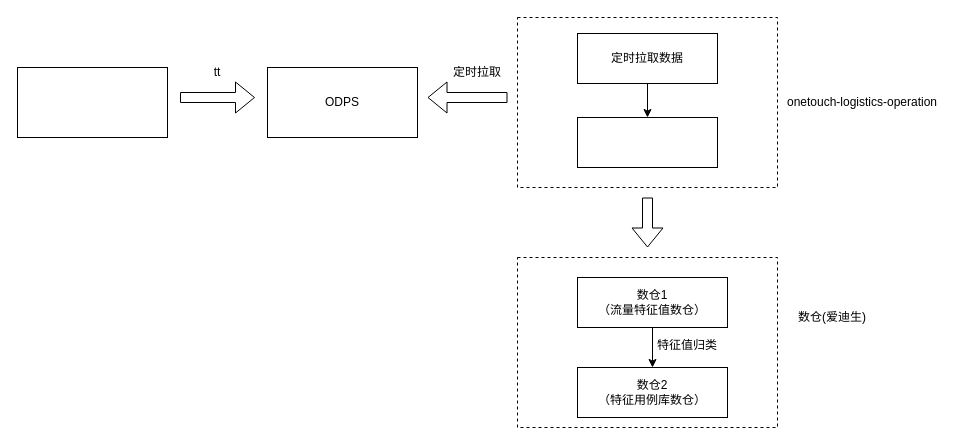
Some shapes in this 965 by 445 pixel diagram are drawn without their labels. The centre of each missing label's shape, as x and y in pixels:
特征值清洗: (647,142)
特征值采样日志: (92,102)
